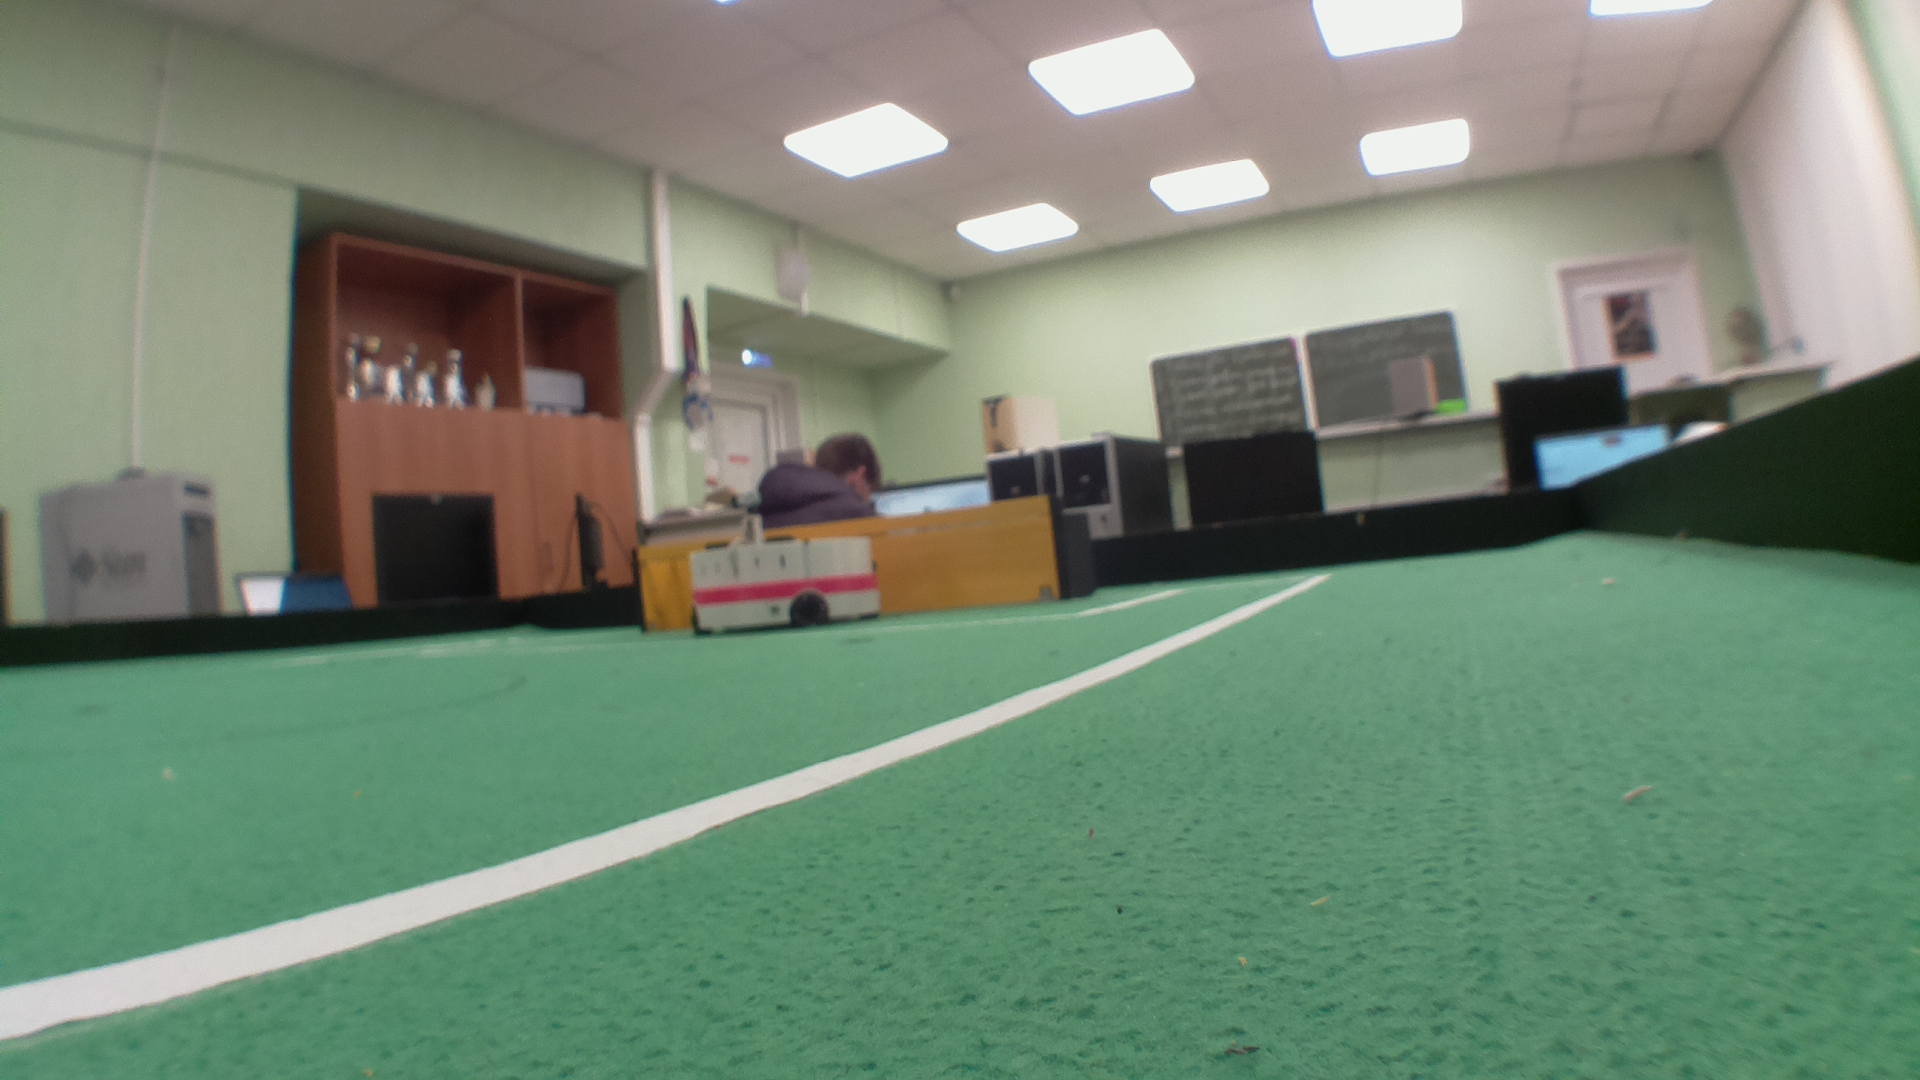YellowGoal: (638, 497, 1054, 626)
